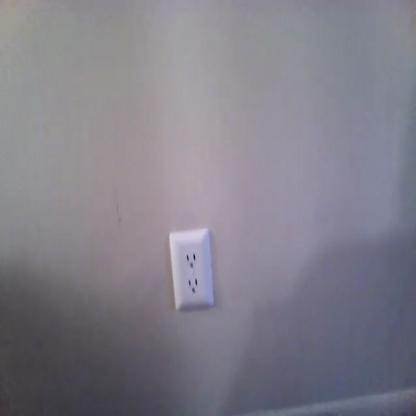OUTLET: (170, 233, 214, 308)
